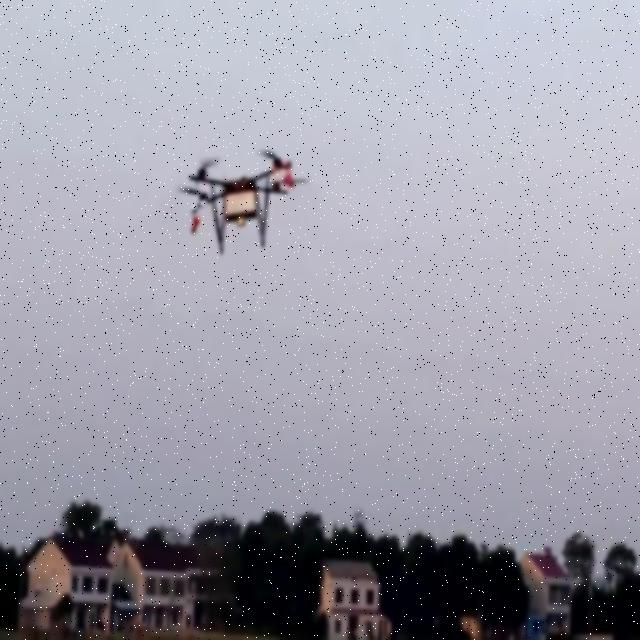UAV: (178, 148, 311, 256)
